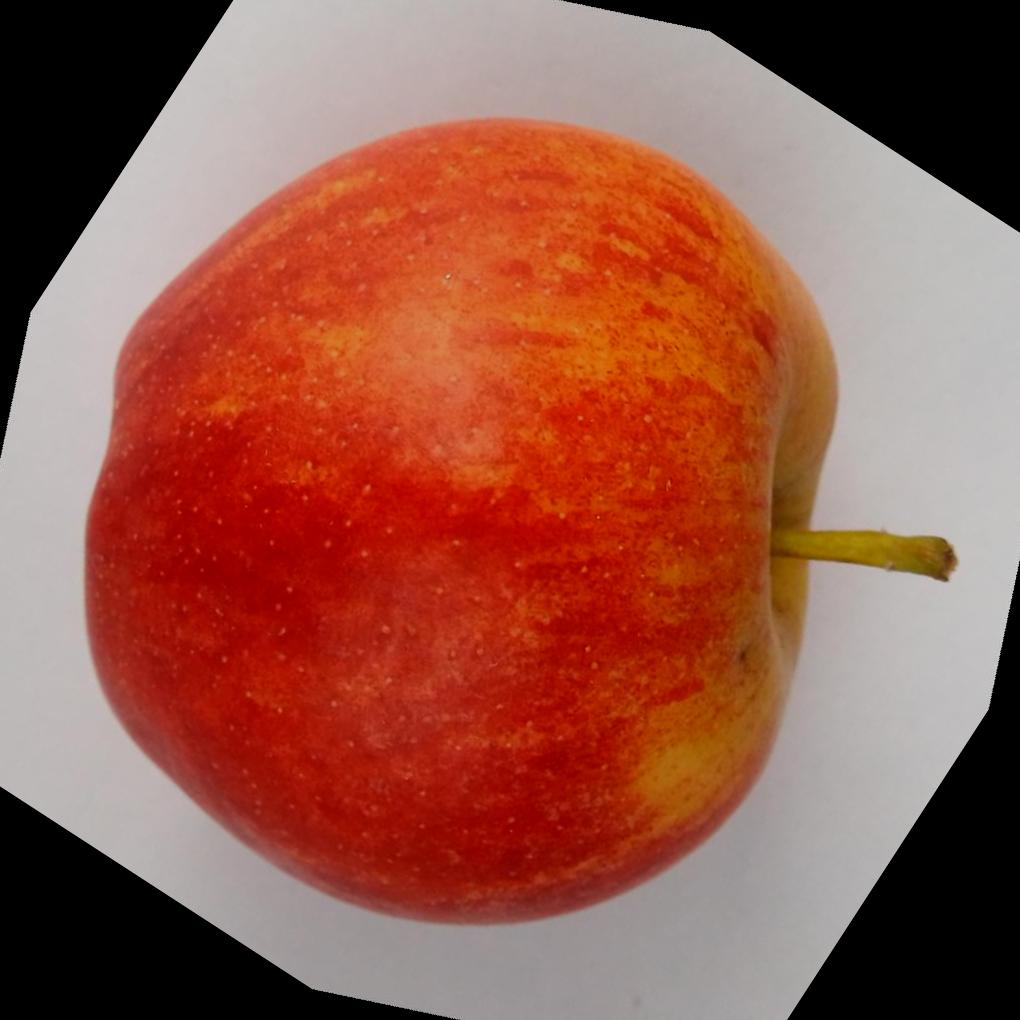FreshGuava: (76, 117, 840, 928)
